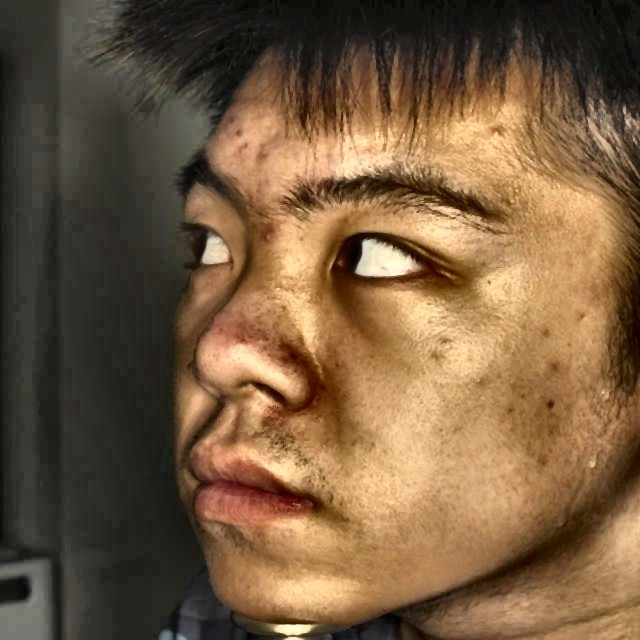comedone: (259, 219, 281, 245), (253, 144, 273, 164), (481, 126, 517, 137), (549, 356, 566, 373)
